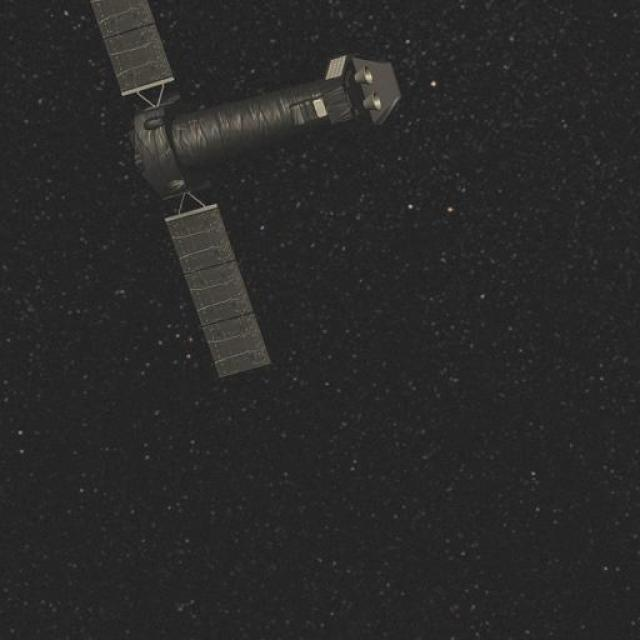xmm_newton: (100, 0, 398, 371)
